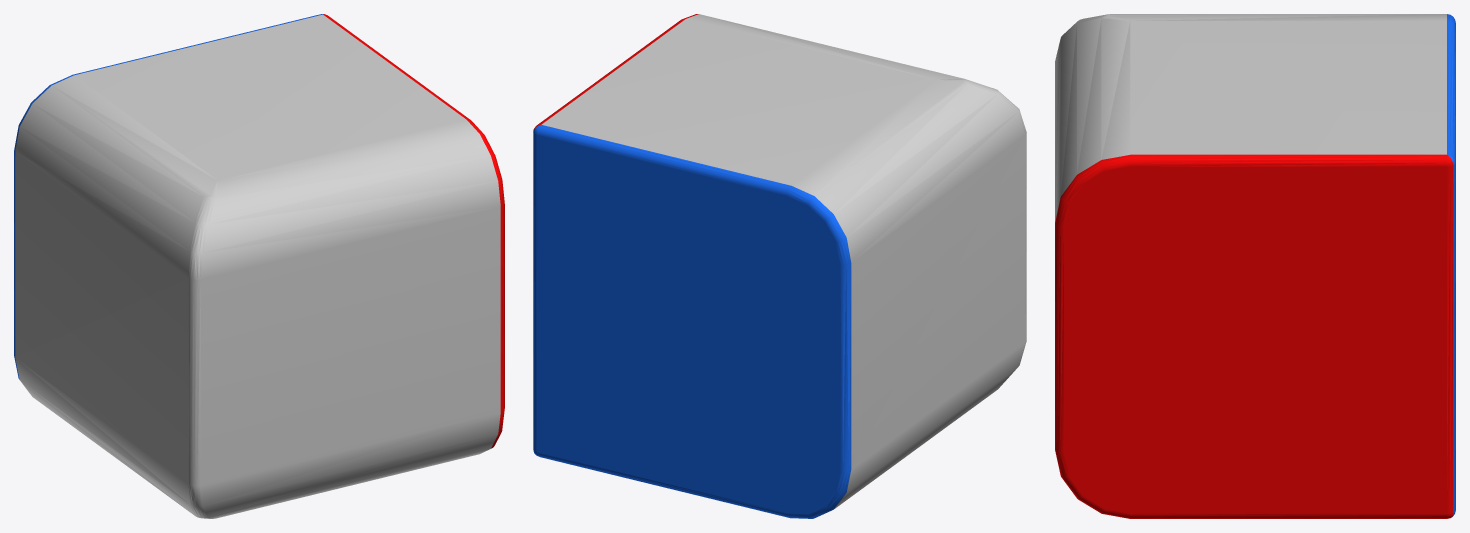
3 renders of one model, left to right at view 1: azimuth 30°, elevation 25°; view 2: azimuth 150°, elevation 25°; view 3: azimuth 270°, elevation 25°, orthographic. The views are drawn at different scales.
Parts seen in each view (by area): view 1: edge_RB; view 2: edge_RB; view 3: edge_RB.
Part boxes in pixels (x1,y1,x2,y2): edge_RB: [14, 14, 504, 518]; edge_RB: [533, 14, 1026, 518]; edge_RB: [1055, 14, 1455, 518].
Size of the model in its own units: 0.2003 by 0.2003 by 0.2003.
1 material, 1 textured.
